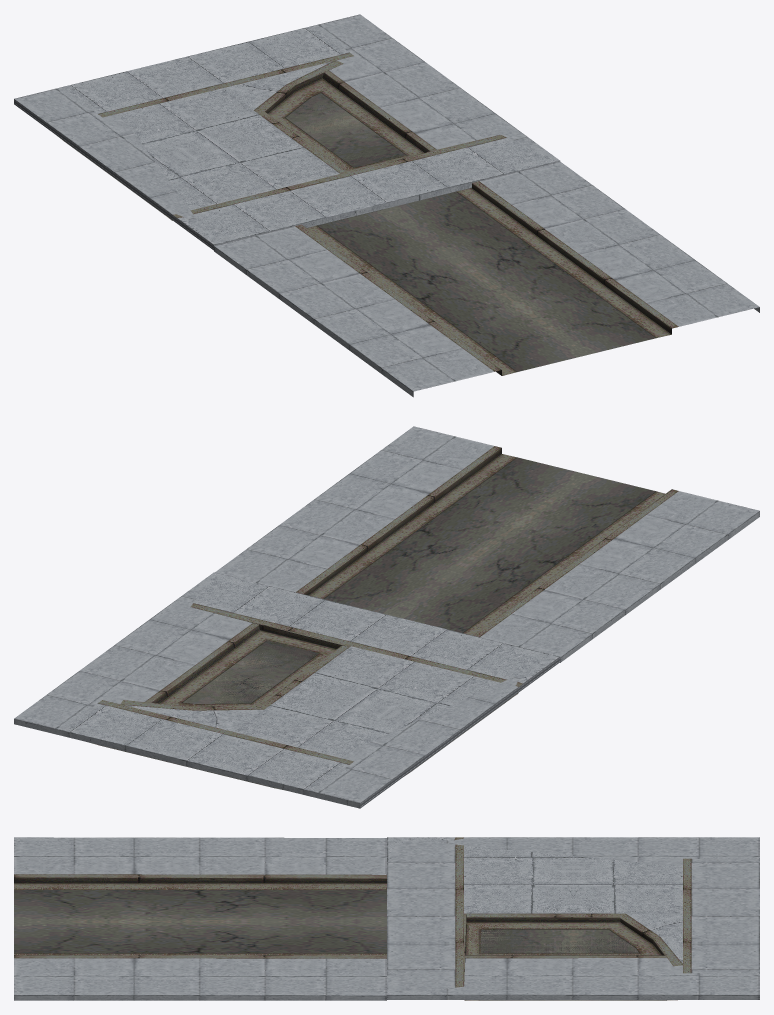
The model's file is Roads Ver.2 batch.fbx.
3 renders of one model, top to bottom at view 1: azimuth 30°, elevation 25°; view 2: azimuth 150°, elevation 25°; view 3: azimuth 270°, elevation 25°, orthographic. The views are drawn at different scales.
Parts seen in each view (by area): view 1: Road T Junction Transition Narrow, Road Straight, Road Straight Narrow, Road Dead End, Road Corner Soft, Road Corner Hard; view 2: Road T Junction Transition Narrow, Road Straight, Road Straight Narrow, Road Dead End, Road Corner Soft, Road Corner Hard, Road Cross, Road T Junction; view 3: Road T Junction Transition Narrow, Road Straight, Road Straight Narrow, Road Dead End, Road Corner Soft, Road Corner Hard, Road T Junction.
Part boxes in pixels (box(x1,y1,x2,y2)): Road T Junction Transition Narrow: box(115, 120, 759, 397); Road Straight: box(60, 26, 557, 244); Road Straight Narrow: box(14, 14, 559, 231); Road Dead End: box(115, 88, 559, 245); Road Corner Soft: box(223, 60, 471, 228); Road Corner Hard: box(14, 93, 497, 250); Road T Junction Transition Narrow: box(26, 426, 759, 805); Road Straight: box(14, 573, 541, 808); Road Straight Narrow: box(14, 572, 536, 802); Road Dead End: box(14, 641, 499, 807); Road Corner Soft: box(120, 649, 296, 731); Road Corner Hard: box(120, 607, 559, 808); Road Cross: box(91, 642, 506, 787); Road T Junction: box(14, 643, 559, 805); Road T Junction Transition Narrow: box(14, 837, 562, 1000); Road Straight: box(387, 840, 759, 1000); Road Straight Narrow: box(387, 837, 759, 999); Road Dead End: box(464, 845, 682, 1000); Road Corner Soft: box(481, 913, 682, 1000); Road Corner Hard: box(464, 914, 662, 1000); Road T Junction: box(387, 837, 468, 1000).
Bounding box in the file's own units: 1200 × 600 × 10.46.
